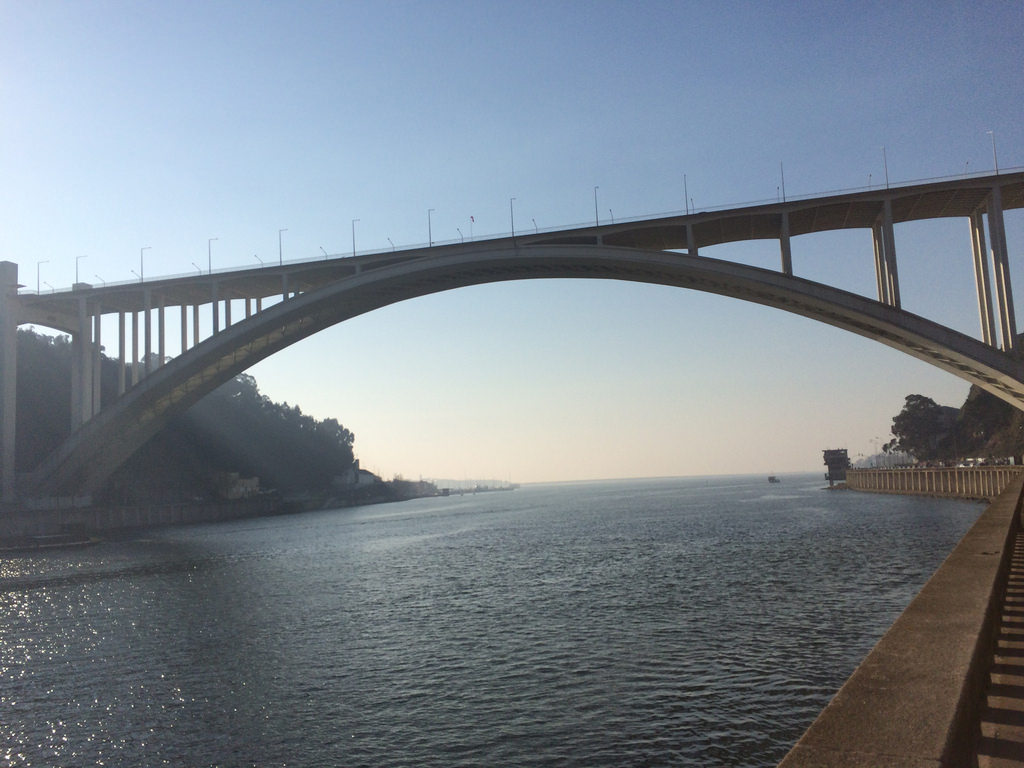arrabida: (0, 167, 1023, 515)
